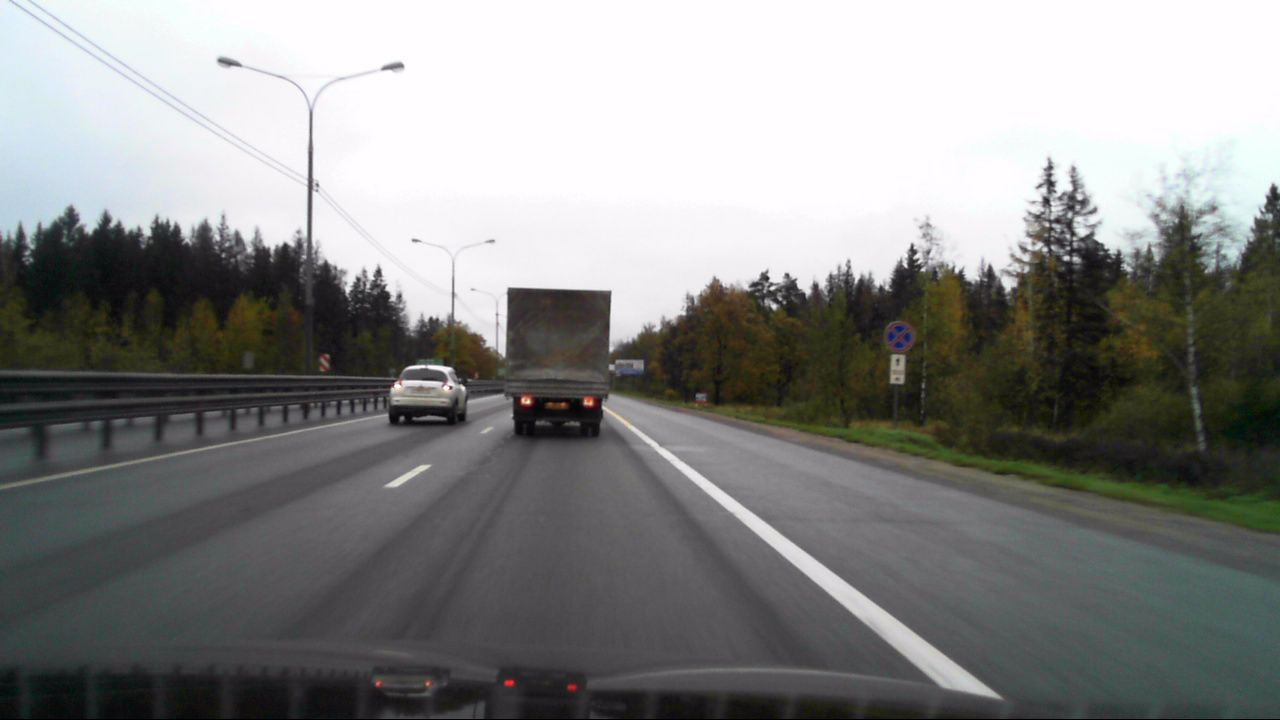No Parking: (883, 321, 915, 353)
